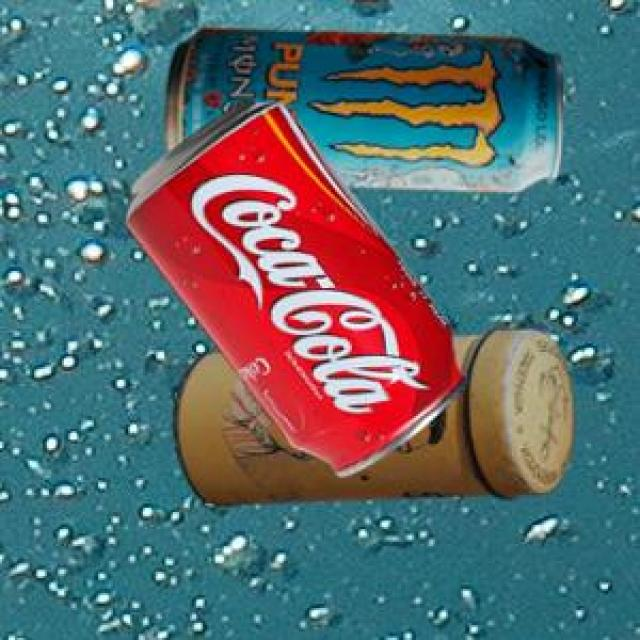logam: (123, 97, 464, 473), (172, 325, 571, 502), (163, 25, 560, 189)
